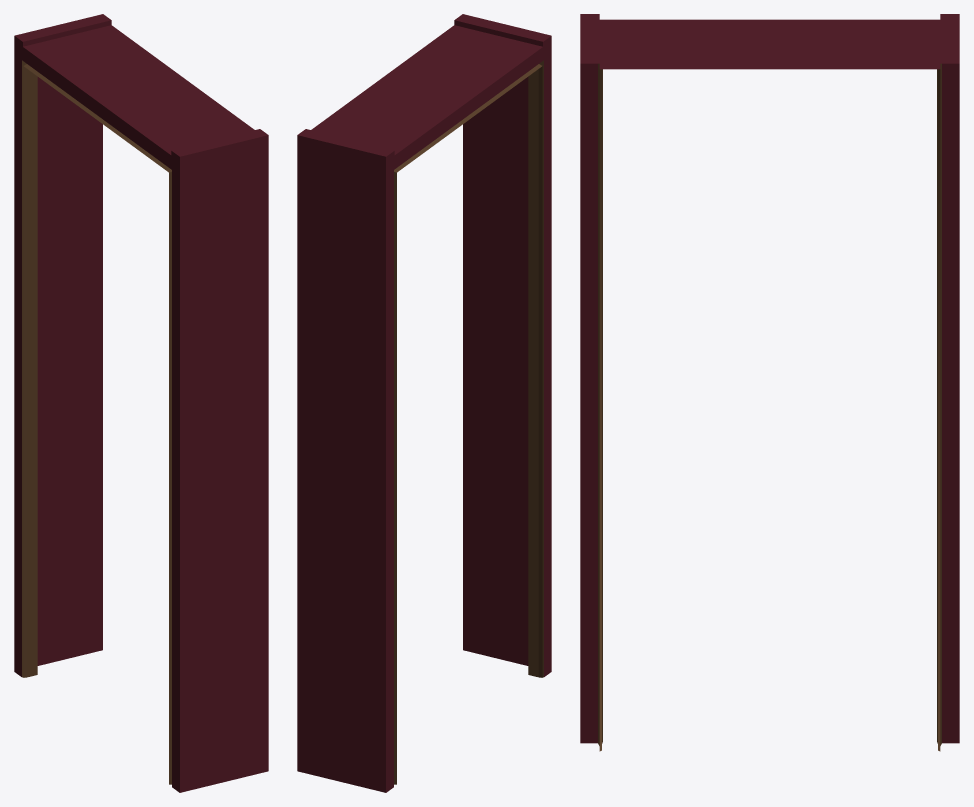
The model's file is TürRahmen_LaternenZimmer.fbx.
3 views of the same model, side by side, from view 1: azimuth 30°, elevation 25°; view 2: azimuth 150°, elevation 25°; view 3: azimuth 270°, elevation 25° (orthographic). The views are drawn at different scales.
Visible parts, largest first — view 1: Door.002; view 2: Door.002; view 3: Door.002.
Part boxes in pixels (box(x1,y1,x2,y2)): Door.002: box(14, 14, 268, 792); Door.002: box(297, 14, 551, 792); Door.002: box(580, 14, 959, 751).
Bounding box in the file's own units: 12.94 × 87.68 × 41.34.
